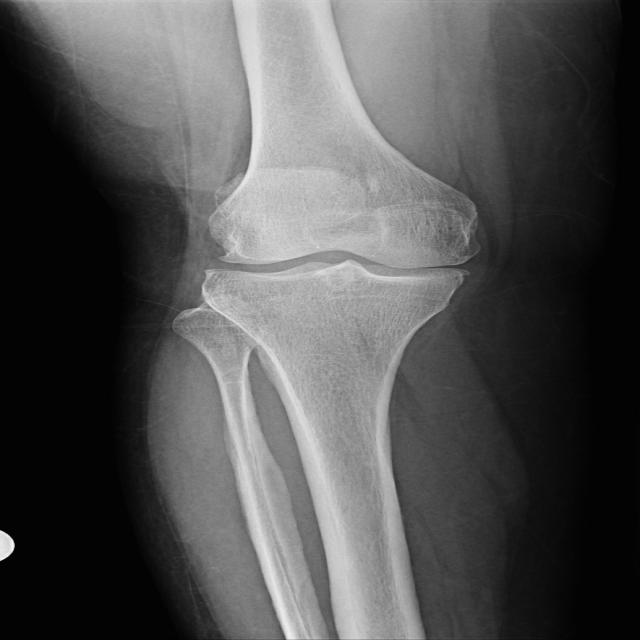osteo: (205, 178, 484, 318)
